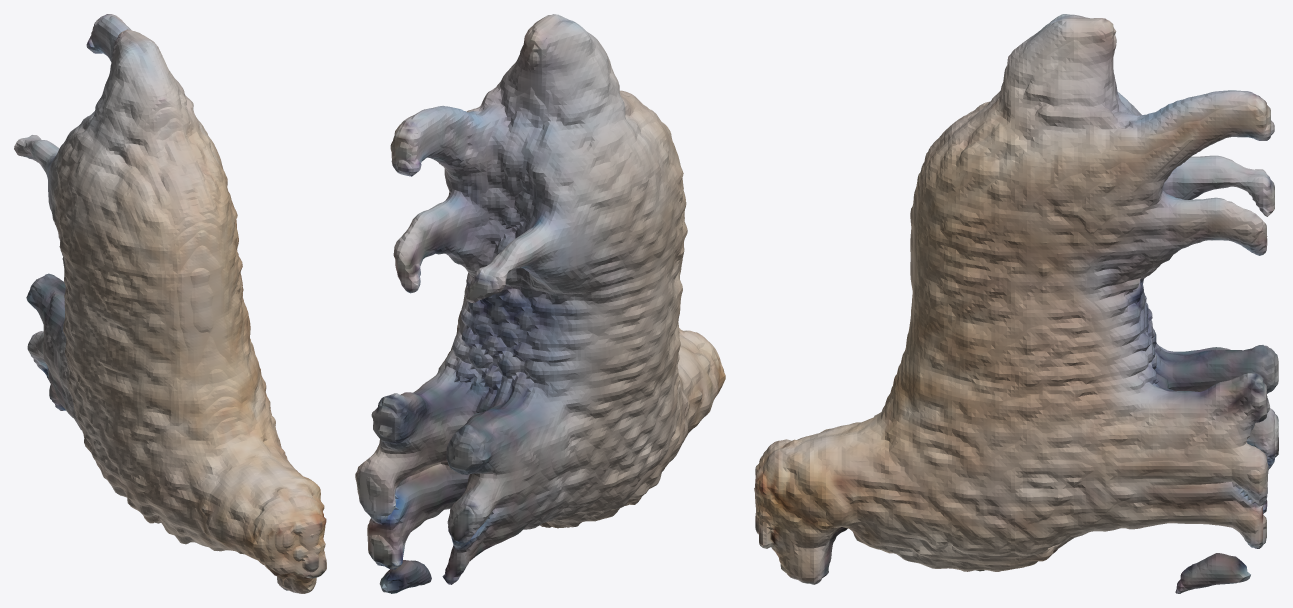
3 views of the same model, side by side, from view 1: azimuth 30°, elevation 25°; view 2: azimuth 150°, elevation 25°; view 3: azimuth 270°, elevation 25° (orthographic). The views are drawn at different scales.
Parts seen in each view (by area): view 1: world; view 2: world; view 3: world.
Boxes of the visible parts, <box> form: world: <box>14,14,326,593</box>; world: <box>355,14,725,593</box>; world: <box>754,14,1278,593</box>.
Bounding box in the file's own units: 0.3974 × 1.03 × 0.9087.
